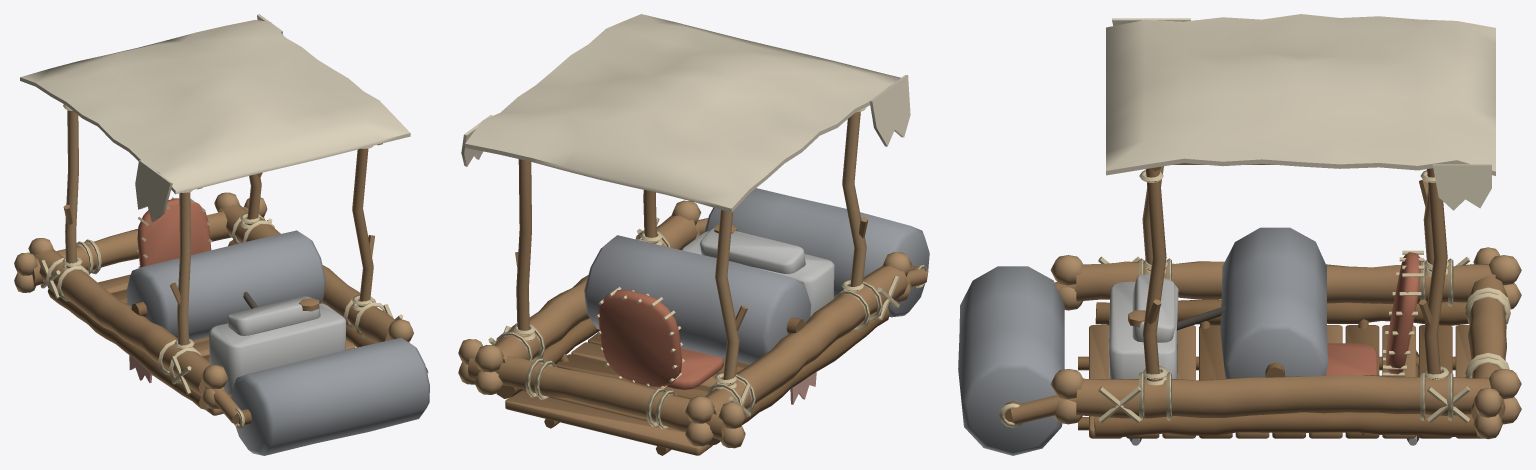
Rendered from stoneage.glb.
3 views of the same model, side by side, from view 1: azimuth 30°, elevation 25°; view 2: azimuth 150°, elevation 25°; view 3: azimuth 270°, elevation 25° (orthographic). The views are drawn at different scales.
Visible parts, largest first — view 1: stoneage, stoneage_wreck, stoneage_sig; view 2: stoneage, stoneage_wreck, stoneage_sig; view 3: stoneage, stoneage_wreck, stoneage_sig.
Part boxes in pixels (x1=…): stoneage: x1=14, y1=14, x2=429, y2=455; stoneage_wreck: x1=14, y1=192, x2=427, y2=428; stoneage_sig: x1=126, y1=230, x2=325, y2=340; stoneage: x1=458, y1=14, x2=929, y2=455; stoneage_wreck: x1=459, y1=200, x2=927, y2=455; stoneage_sig: x1=584, y1=235, x2=811, y2=364; stoneage: x1=958, y1=14, x2=1521, y2=455; stoneage_wreck: x1=999, y1=180, x2=1521, y2=445; stoneage_sig: x1=1220, y1=227, x2=1328, y2=378.
Bounding box in the file's own units: 1.85 × 1.92 × 2.85.
